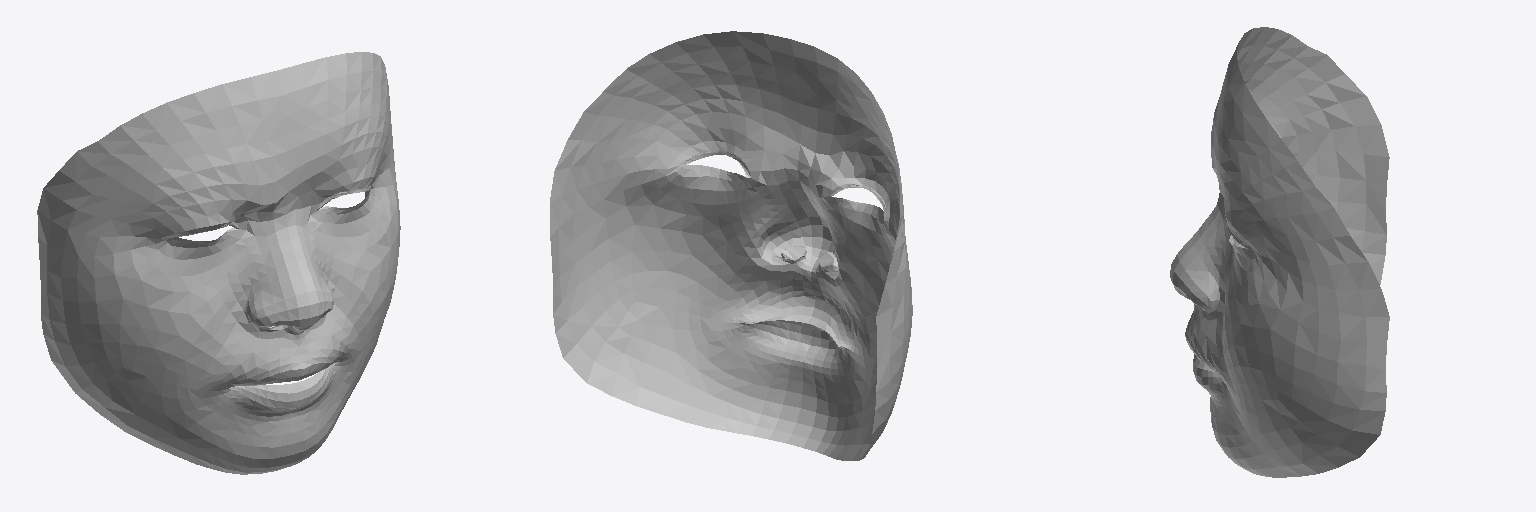
Rendered from browDown_R.obj.
3 renders of one model, left to right at view 1: azimuth 30°, elevation 25°; view 2: azimuth 150°, elevation 25°; view 3: azimuth 270°, elevation 25°, orthographic.
Parts seen in each view (by area): view 1: default; view 2: default; view 3: default.
Part boxes in pixels (x1,y1,x2,y2): default: (37, 52, 400, 474); default: (550, 31, 912, 460); default: (1170, 27, 1389, 477).
Bounding box in the file's own units: 0.1624 × 0.1847 × 0.0913.